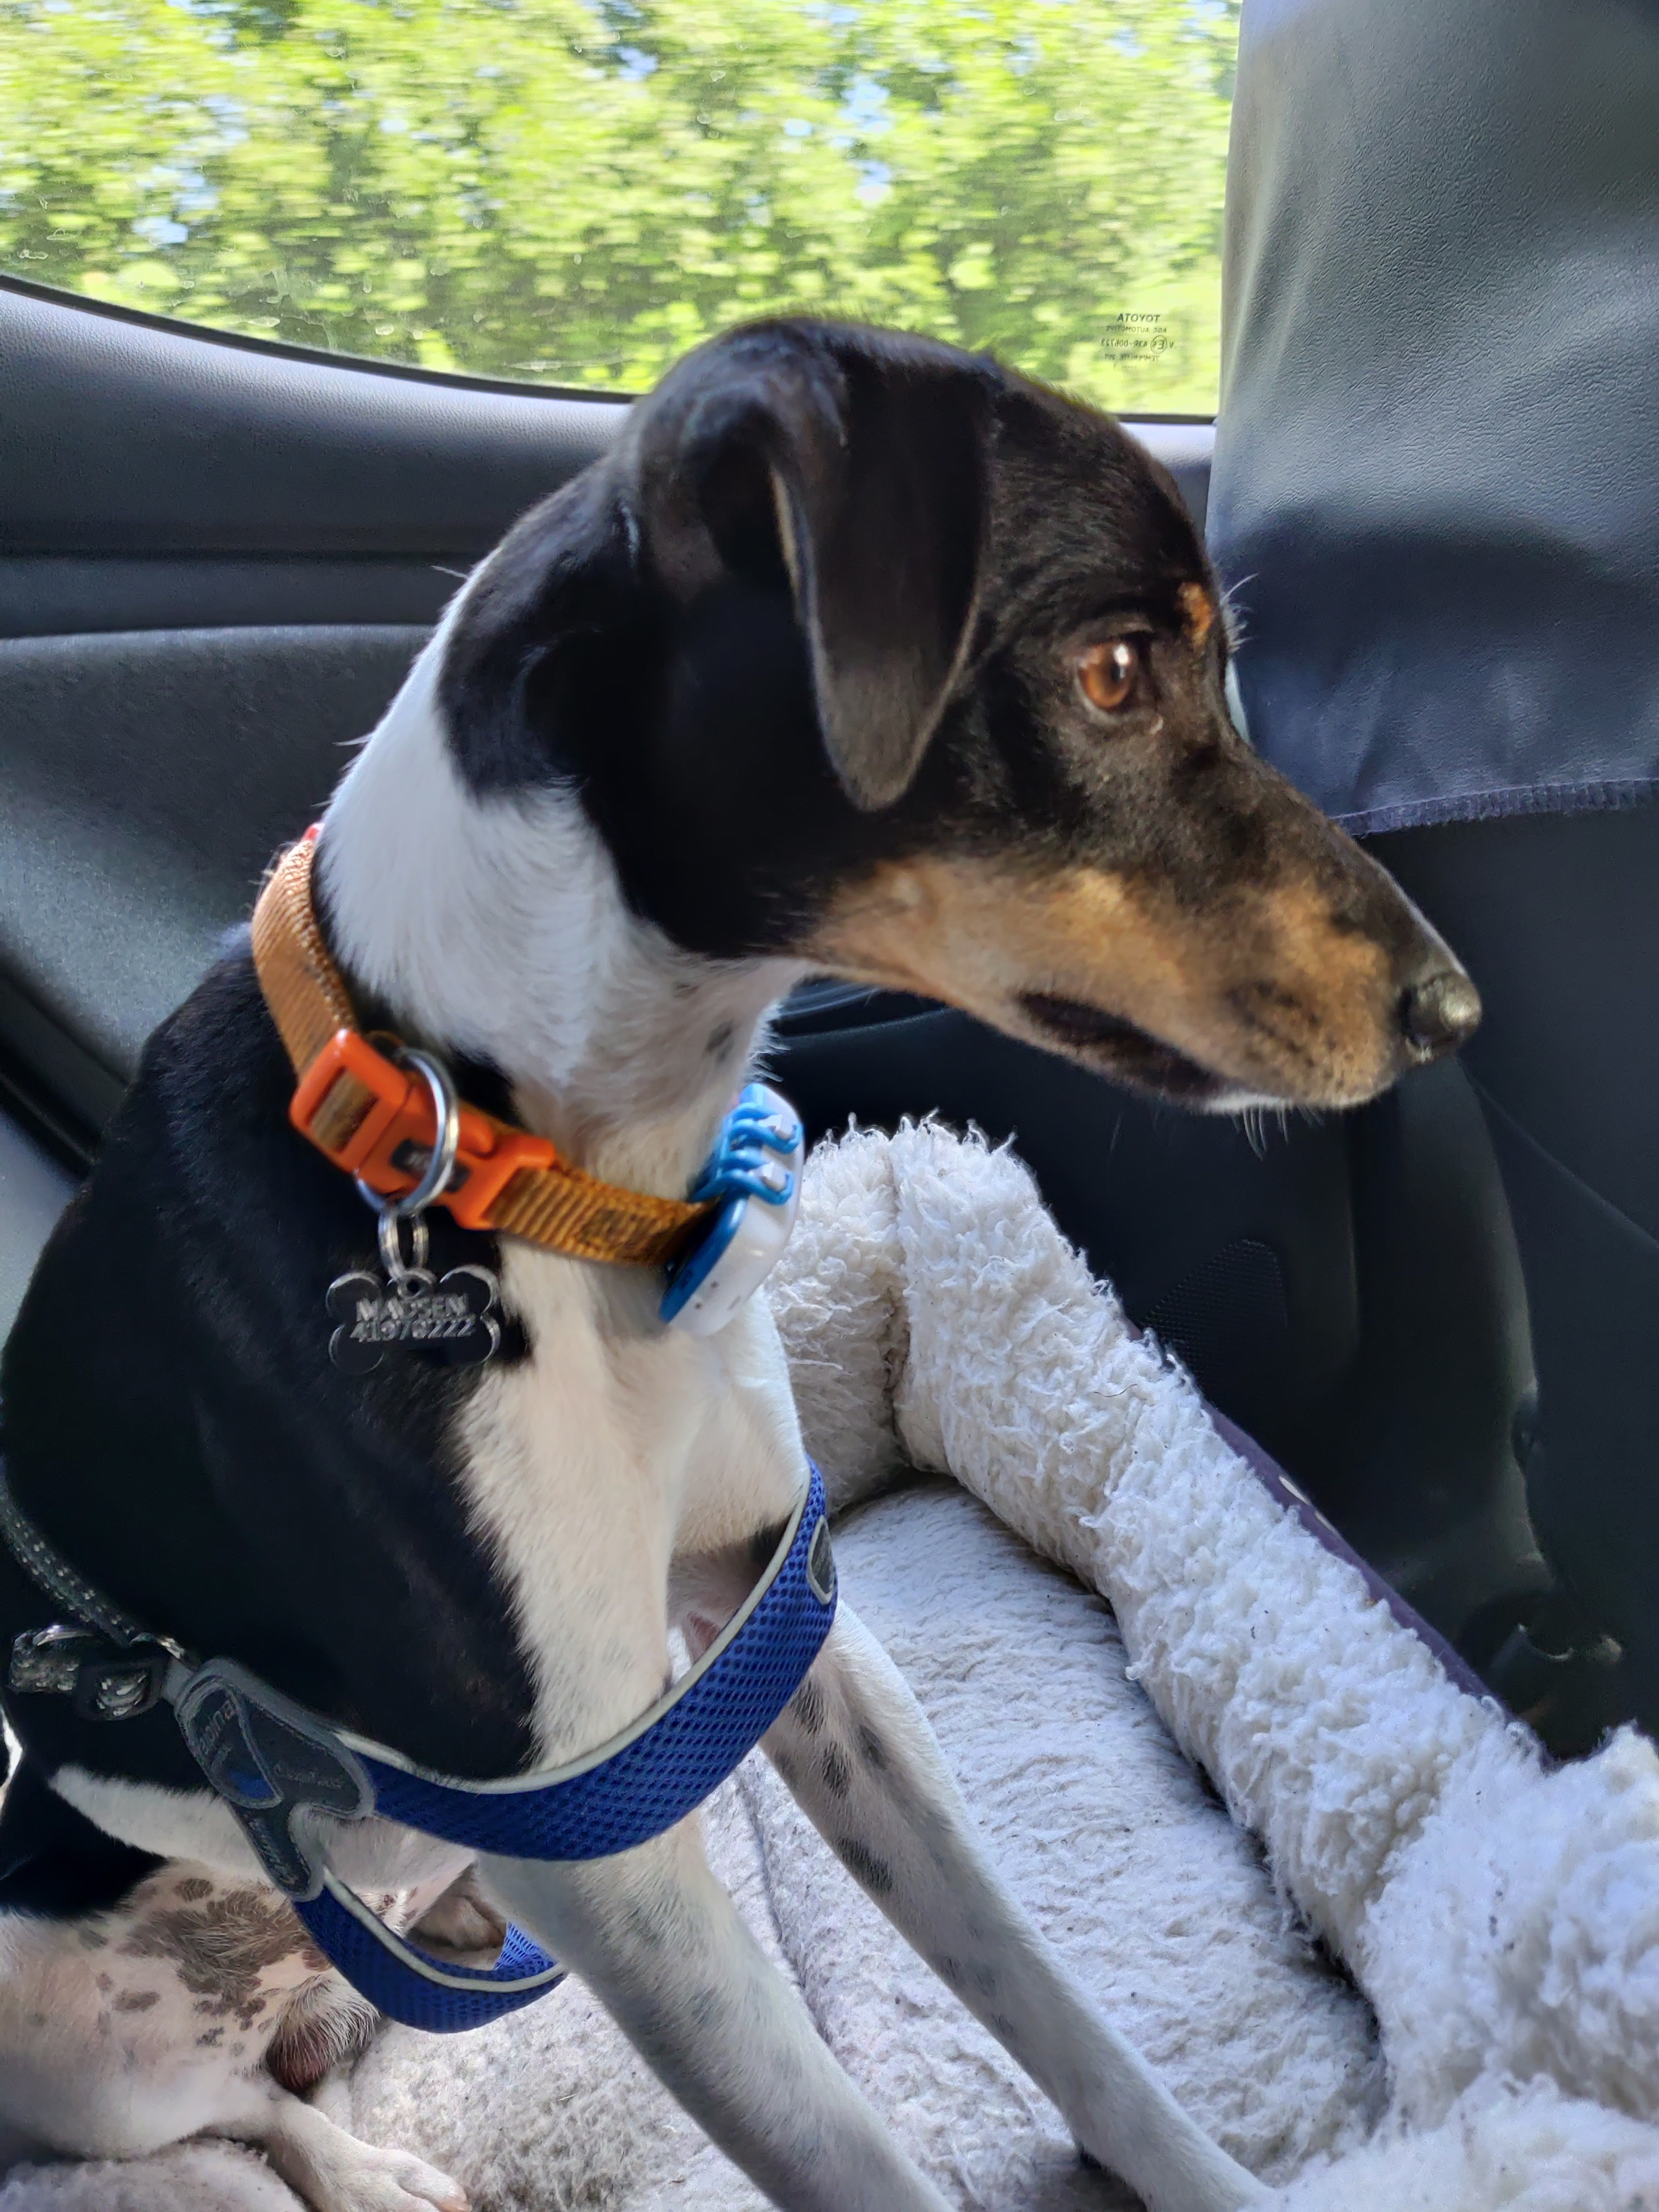Dog: (0, 296, 1490, 2212)
